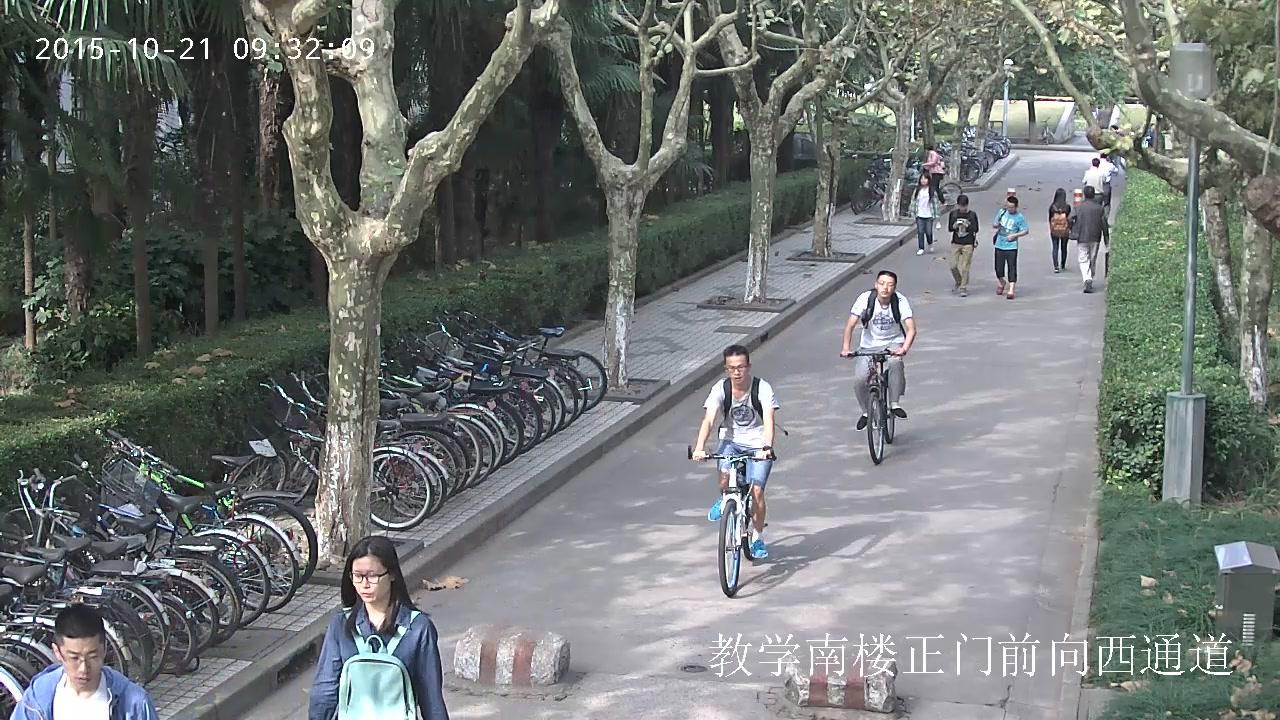face: (60, 634, 104, 686), (352, 555, 389, 600), (725, 354, 746, 382), (877, 274, 895, 298), (1007, 200, 1015, 213), (959, 202, 967, 211), (920, 174, 928, 183)
